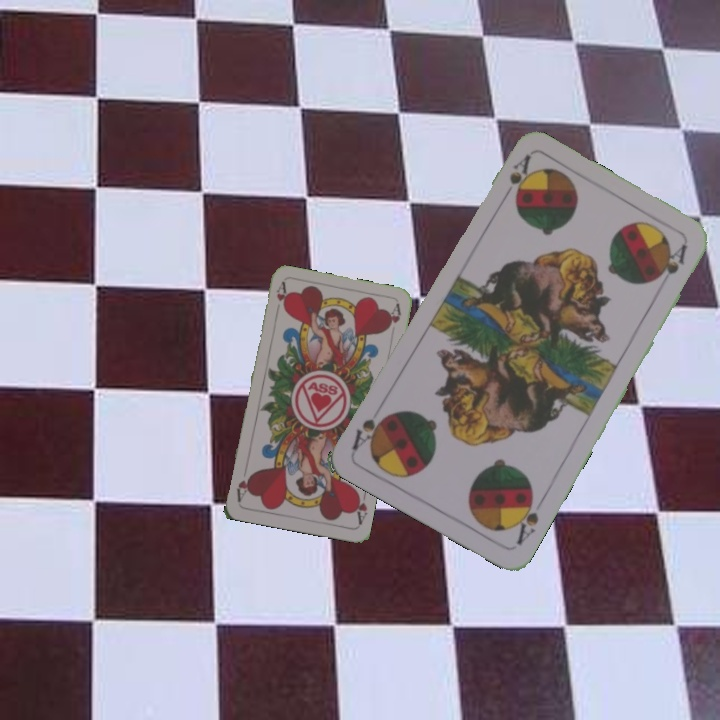HA: (350, 487, 370, 527), (272, 279, 289, 311)
SA: (508, 489, 547, 548), (497, 151, 533, 206)
